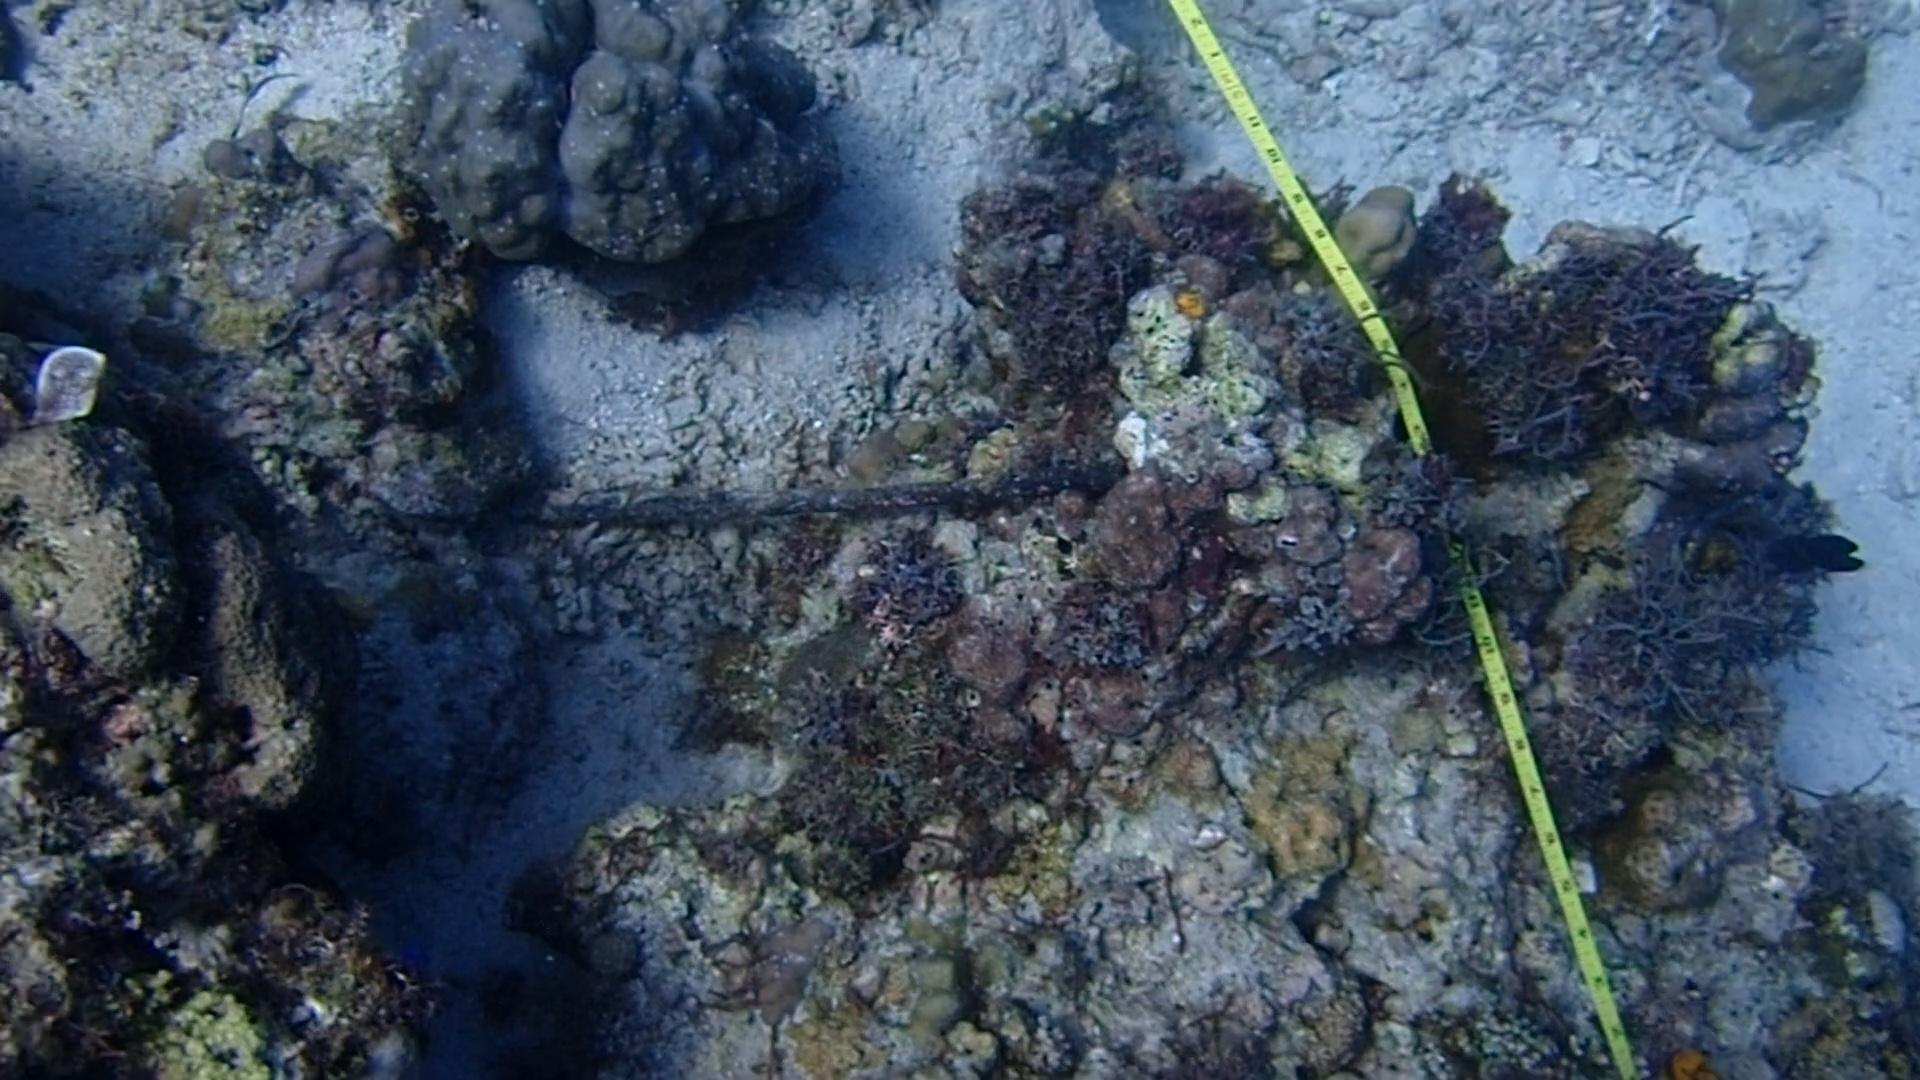Dark Fish: (1758, 521, 1870, 599)
